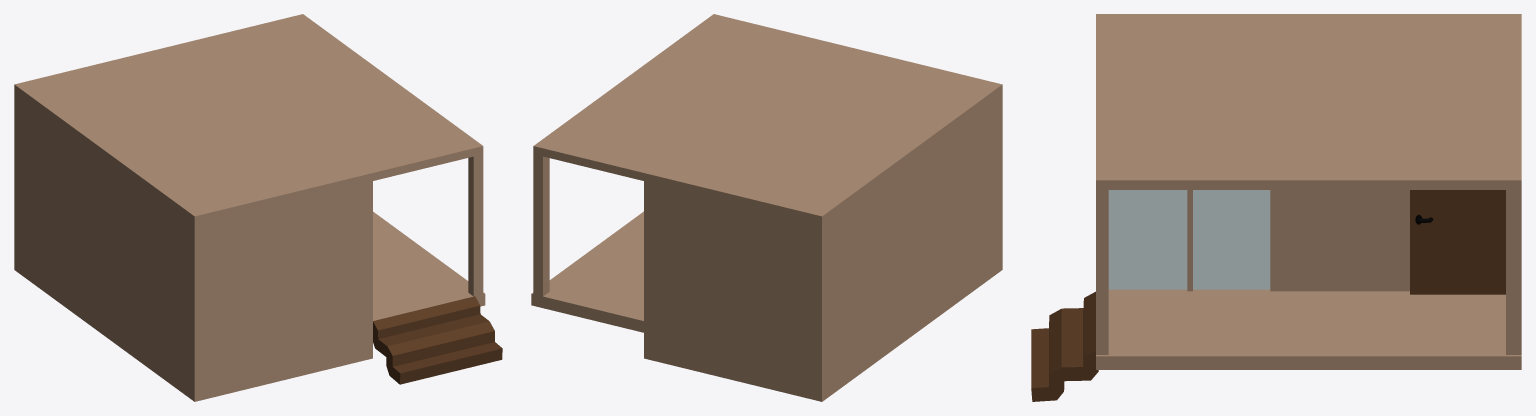
Rendered from tinyhouse2.fbx.
3 renders of one model, left to right at view 1: azimuth 30°, elevation 25°; view 2: azimuth 150°, elevation 25°; view 3: azimuth 270°, elevation 25°, orthographic. The views are drawn at different scales.
Visible parts, largest first — view 1: Cube, Cube.003; view 2: Cube; view 3: Cube, Cube.004, Cube.001, Cube.002, Cube.003.
Part boxes in pixels (<box>): Cube: <box>14,14,485,401</box>; Cube.003: <box>373,296,502,384</box>; Cube: <box>531,14,1002,401</box>; Cube: <box>1096,14,1521,369</box>; Cube.004: <box>1410,190,1505,294</box>; Cube.001: <box>1108,190,1187,289</box>; Cube.002: <box>1193,190,1270,289</box>; Cube.003: <box>1031,291,1098,401</box>.
Bounding box in the file's own units: 481 × 303 × 595.
